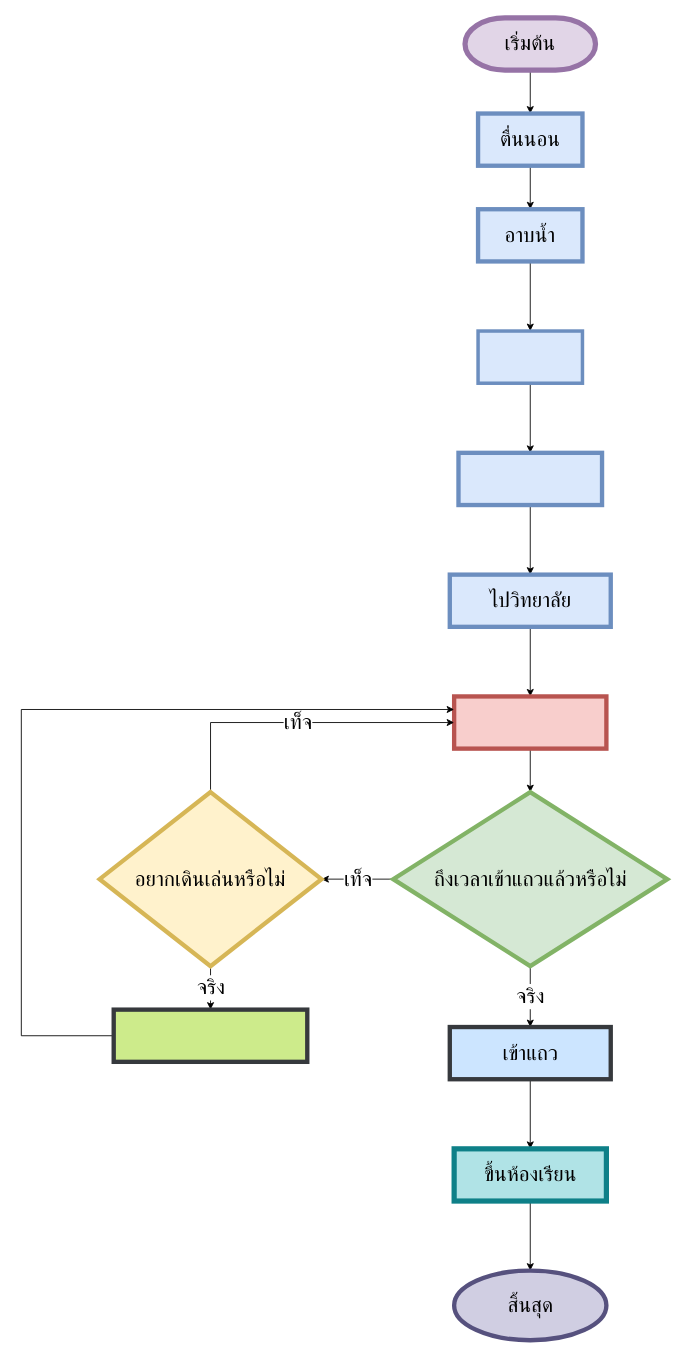
Image size: 685x1357. Some labels were removed from this diagram. The centre of each missing label's shape, as x and y in pixels:
"รอเวลาเข้าแถว" goes at (530,722).
"รับประทานอาหารเช้า" goes at (530,478).
"แปรงฟัน" goes at (530,357).
"ไปเดินเล่น" goes at (210,1035).
